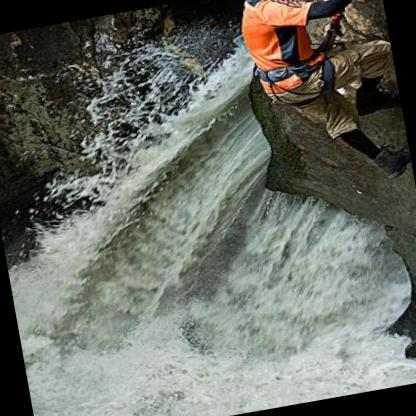helmet: (249, 1, 331, 9)
